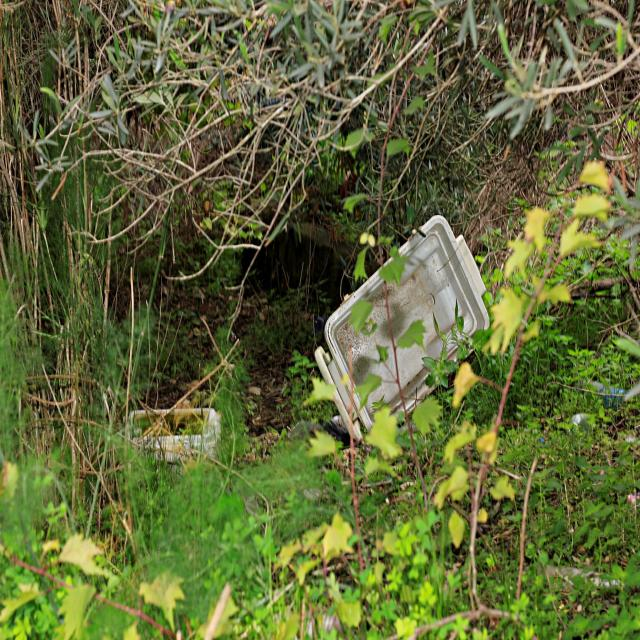Bottle: (582, 379, 632, 406), (569, 414, 596, 436)
Other plastic: (313, 216, 493, 444), (125, 407, 221, 462)
